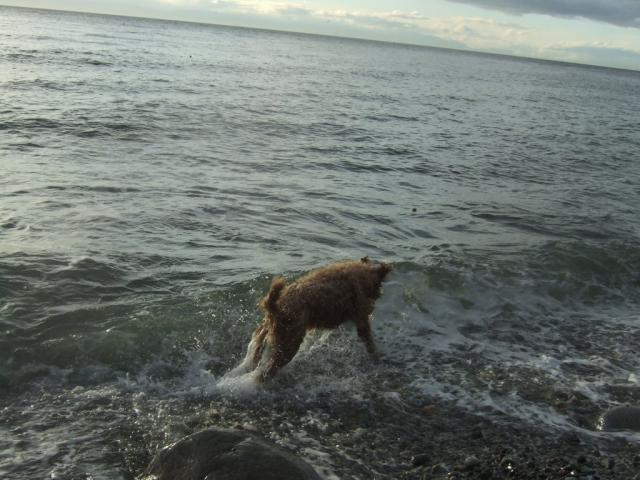Dog: (239, 255, 395, 388)
